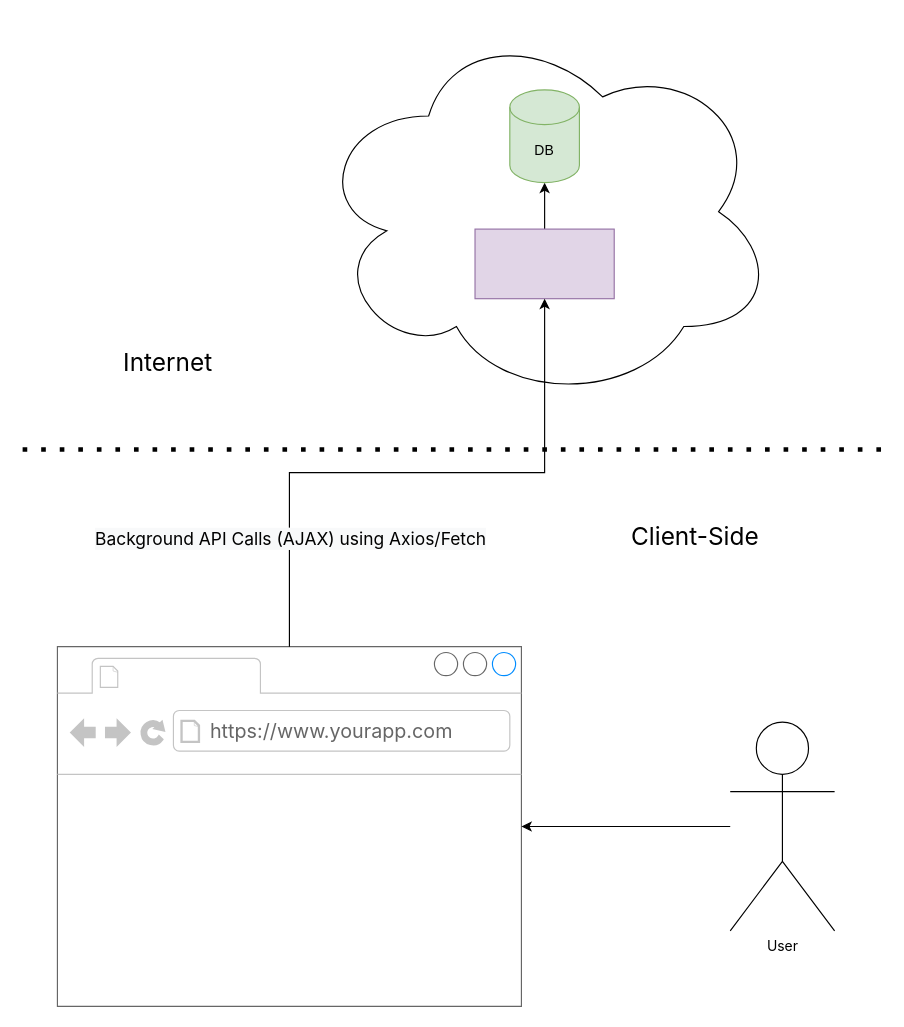
This 904x1027 diagram has some shape labels left out. Here are the shapes that lost their labels. From the top down, the centre of each, then its label:
point 544,263: Server
point 190,675: SPA
